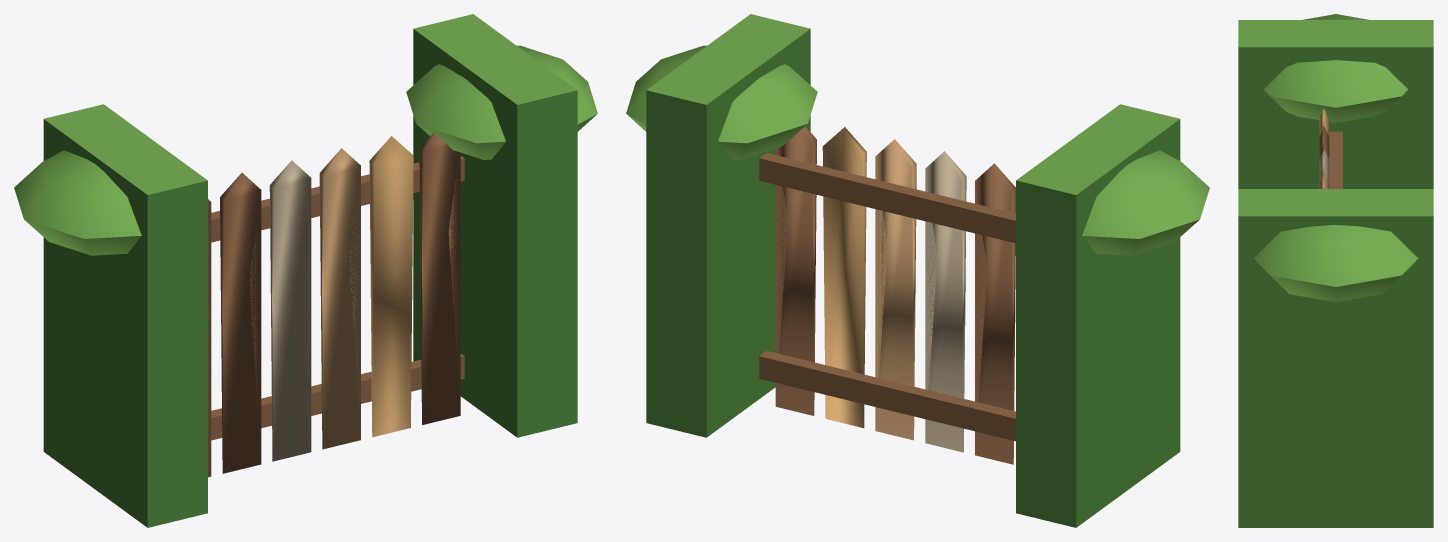
Rendered from fence-hedge-gate.lod1.glb.
3 renders of one model, left to right at view 1: azimuth 30°, elevation 25°; view 2: azimuth 150°, elevation 25°; view 3: azimuth 270°, elevation 25°, orthographic. The views are drawn at different scales.
Visible parts, largest first — view 1: fence-hedge-gate_lod1; view 2: fence-hedge-gate_lod1; view 3: fence-hedge-gate_lod1.
Part boxes in pixels (left/top/right/bottom): fence-hedge-gate_lod1: left=14, top=14, right=597, bottom=527; fence-hedge-gate_lod1: left=626, top=14, right=1209, bottom=527; fence-hedge-gate_lod1: left=1238, top=14, right=1433, bottom=527.
Bounding box in the file's own units: 1.31 × 0.76 × 0.42.
